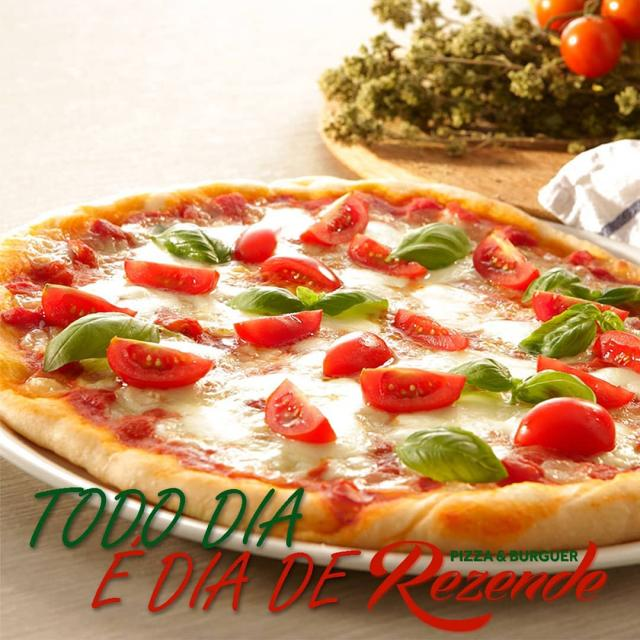basil: (446, 346, 600, 410), (33, 307, 158, 372), (371, 426, 508, 484), (220, 280, 392, 320), (513, 306, 624, 359), (523, 260, 640, 309), (386, 214, 473, 272), (140, 218, 233, 266)
pizza: (0, 178, 640, 564)
tomatoes: (294, 184, 426, 278), (228, 218, 342, 287), (508, 395, 620, 465), (107, 335, 214, 392), (530, 352, 636, 409), (359, 364, 466, 414), (264, 375, 336, 446), (387, 302, 471, 354), (35, 281, 142, 321), (474, 223, 540, 287), (319, 330, 400, 380), (124, 257, 220, 296), (233, 310, 326, 348), (532, 290, 625, 323), (594, 326, 640, 380)
